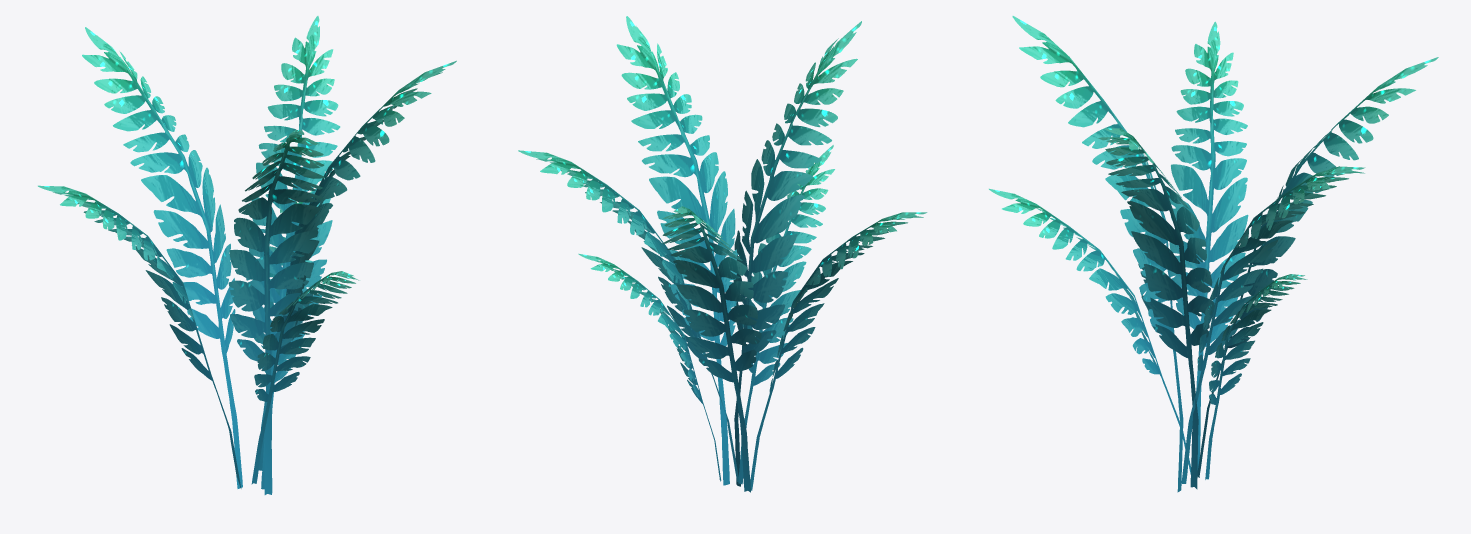
The model's file is SM_ENV_plant_ancient_19_02.fbx.
3 renders of one model, left to right at view 1: azimuth 30°, elevation 25°; view 2: azimuth 150°, elevation 25°; view 3: azimuth 270°, elevation 25°, orthographic. The views are drawn at different scales.
Visible parts, largest first — view 1: SM_ENV_plant_ancient_19_02_LOD0; view 2: SM_ENV_plant_ancient_19_02_LOD0; view 3: SM_ENV_plant_ancient_19_02_LOD0.
Part boxes in pixels (x1,y1,x2,y2): SM_ENV_plant_ancient_19_02_LOD0: (38,16,456,494); SM_ENV_plant_ancient_19_02_LOD0: (518,16,927,492); SM_ENV_plant_ancient_19_02_LOD0: (989,16,1438,492).
Bounding box in the file's own units: 139 × 148 × 137.
